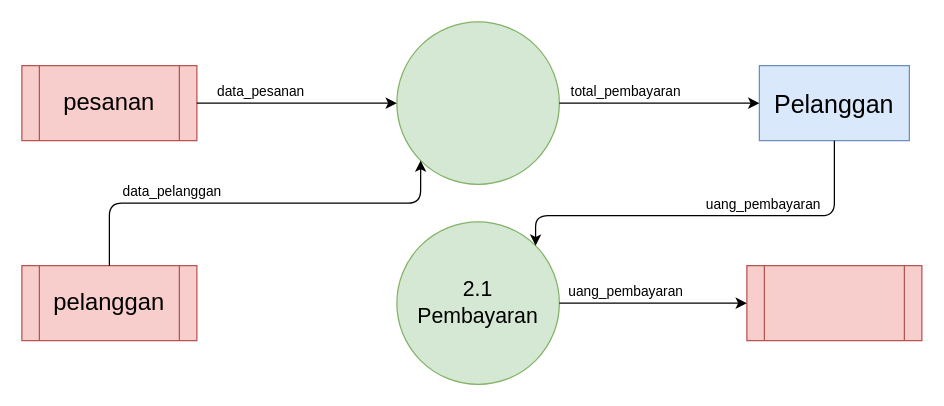
Some shapes in this 944 by 406 pixel diagram are drawn without their labels. The centre of each missing label's shape, as x and y in pixels:
1.1 Konfirmasi Pesanan: [477,102]
transaksi: [834,302]
